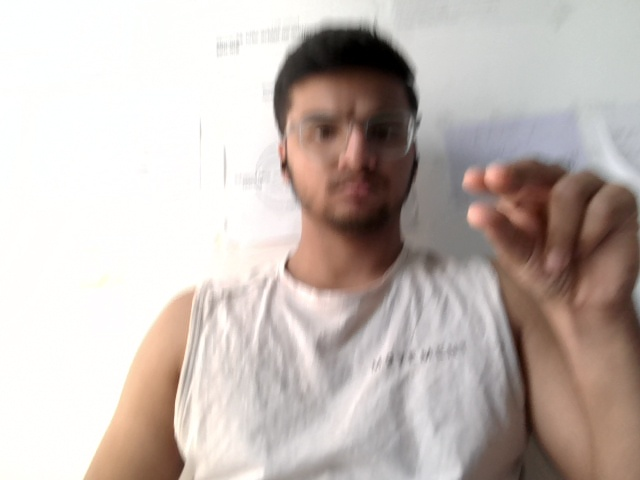no: (442, 123, 640, 328)
